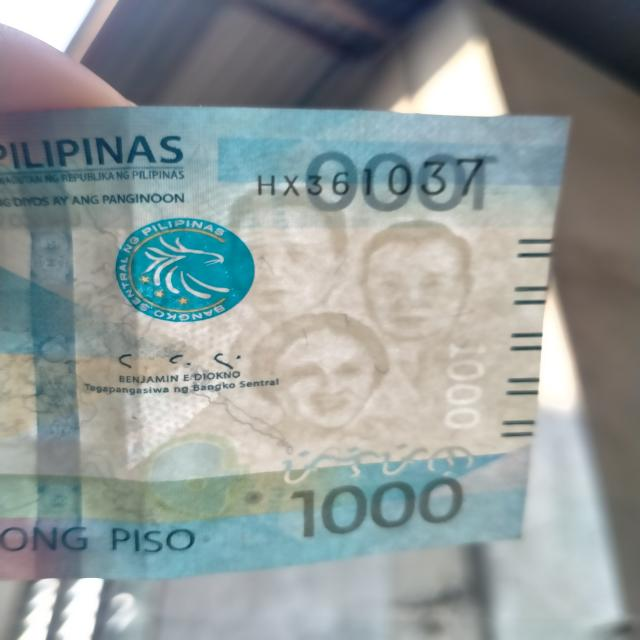security_thread: (24, 114, 79, 579)
see_through_mark: (264, 437, 482, 488)
serial_number: (240, 154, 491, 212)
value_watermark: (438, 333, 487, 437)
watermark: (216, 186, 464, 449)
